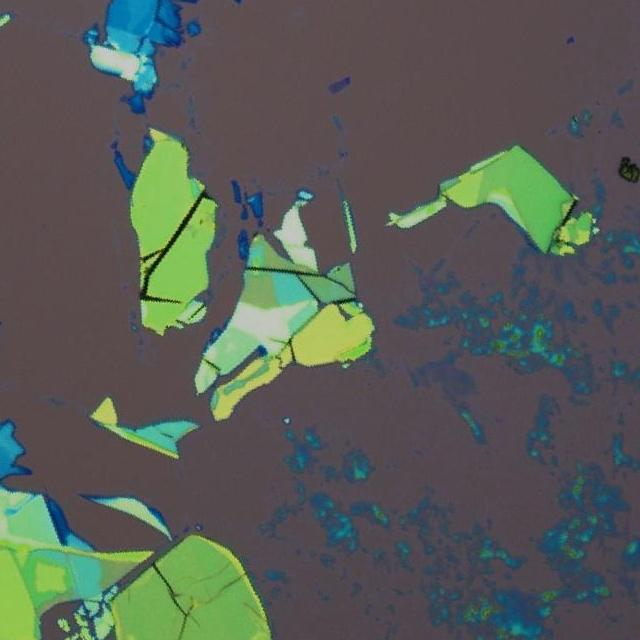monolayer-eWW4: (328, 78, 346, 94)
